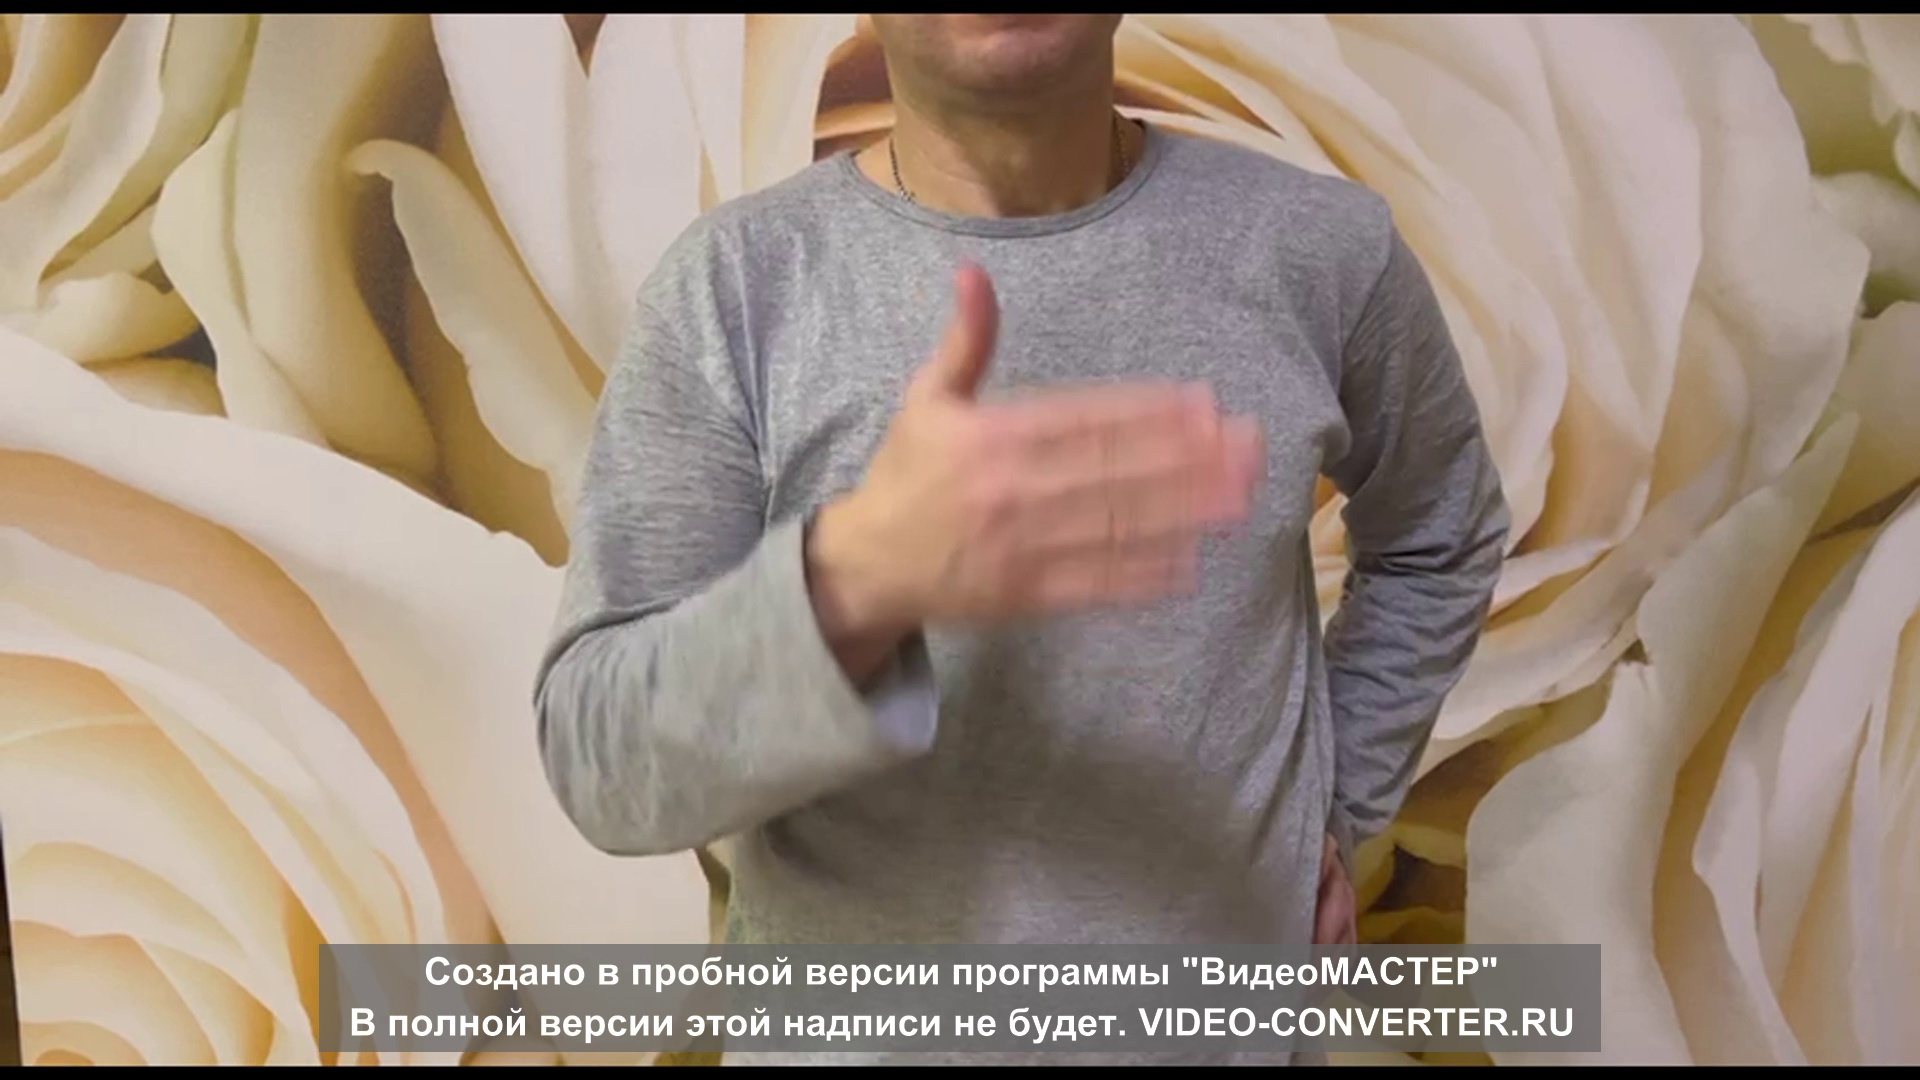Кисть: (857, 261, 1265, 618)
